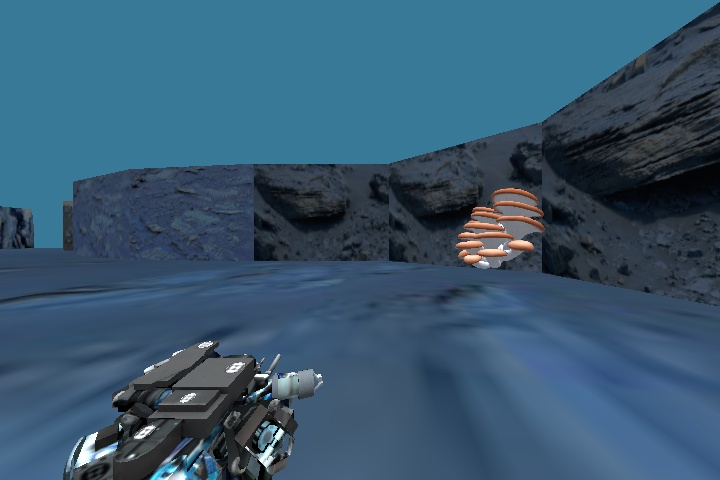mushrooms: (444, 175, 551, 275)
